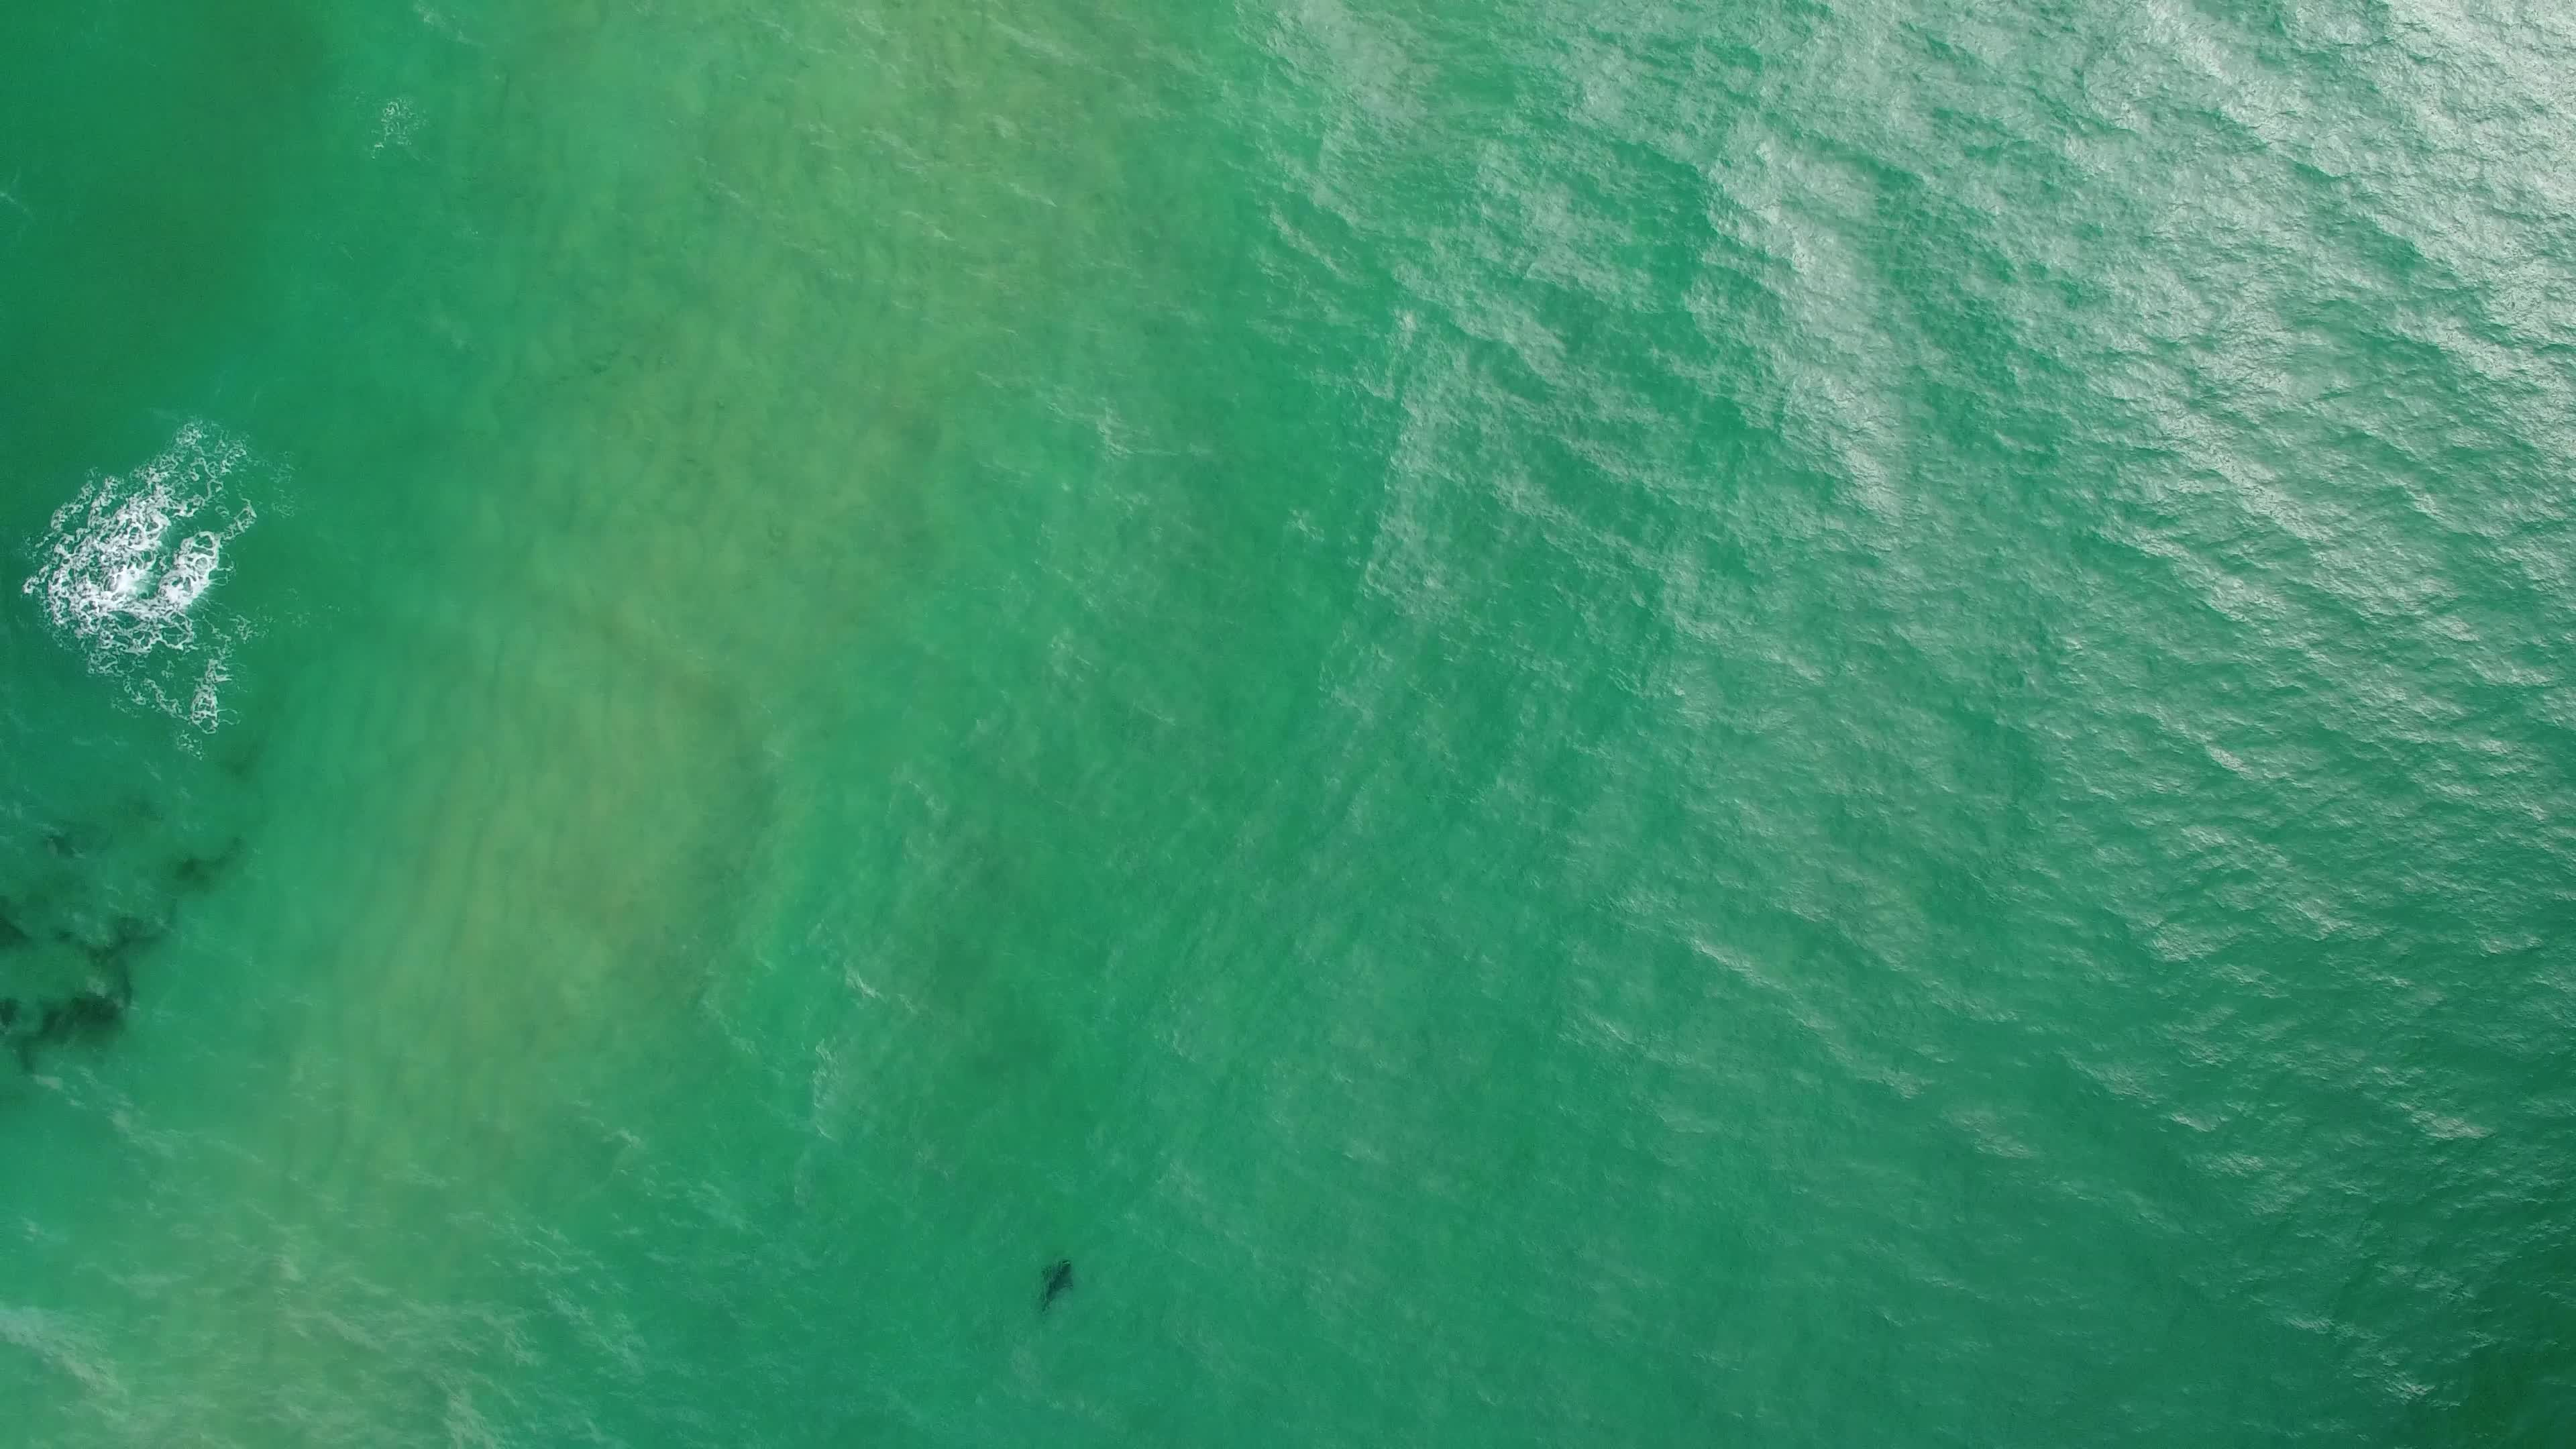shark: (1033, 1253, 1083, 1318)
